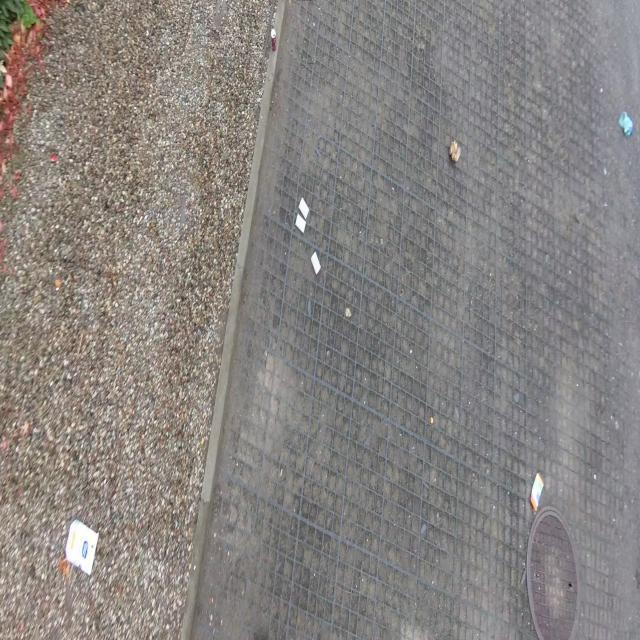rubbish: (65, 517, 98, 577), (529, 471, 544, 511), (618, 111, 633, 135), (448, 137, 461, 162), (310, 251, 322, 276), (299, 197, 310, 219), (295, 214, 306, 234), (271, 29, 276, 50)
